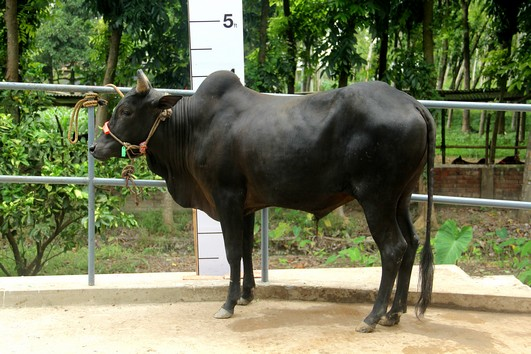cow: (85, 62, 445, 336)
